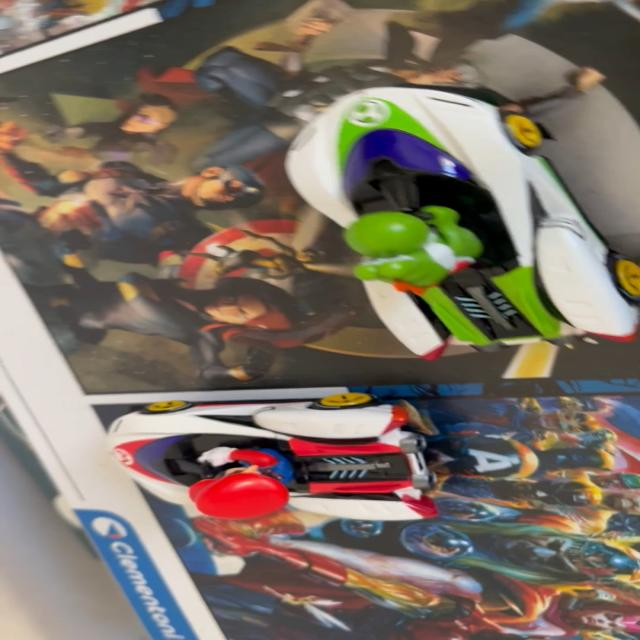mario: (84, 378, 479, 535)
yoshi: (258, 72, 637, 390)
